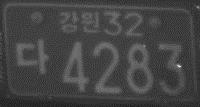2: (92, 41, 120, 94), (125, 11, 144, 38)
3: (158, 42, 187, 96), (103, 11, 123, 36)
4: (61, 41, 90, 92)
8: (125, 42, 154, 94)
강원_O: (58, 9, 99, 33)
다: (15, 38, 50, 74)
